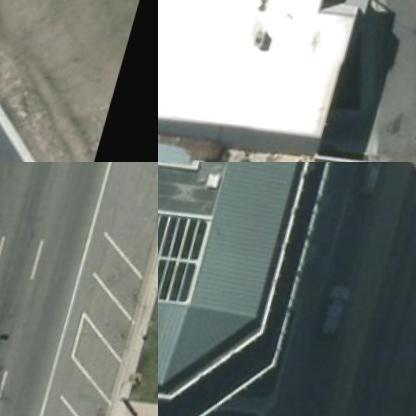car: (319, 290, 360, 348), (357, 162, 406, 208)
